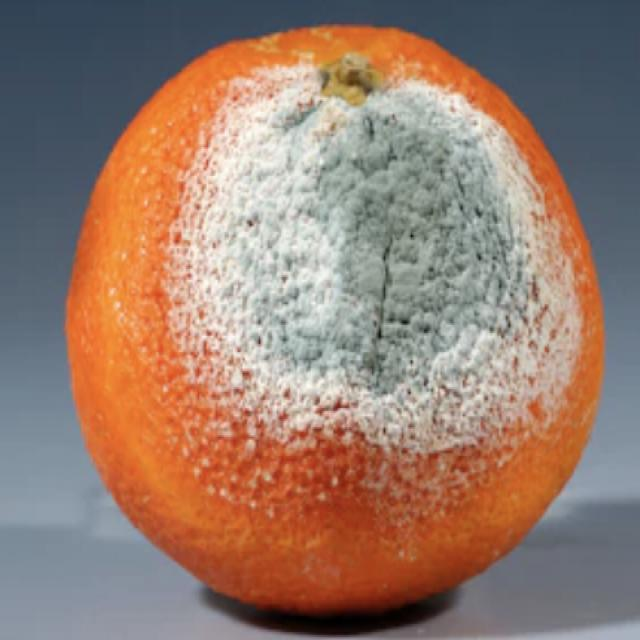rotten-orange: (64, 19, 602, 625)
